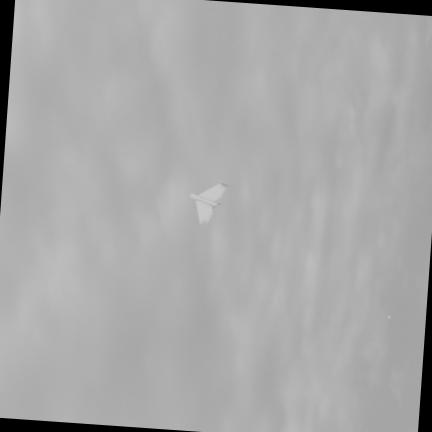Shahed: (189, 180, 227, 225)
